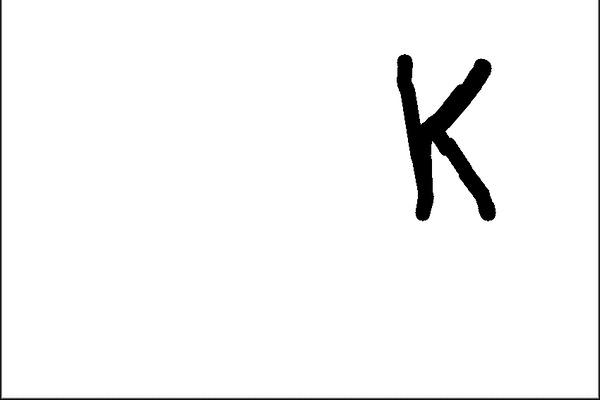K: (388, 47, 505, 227)
